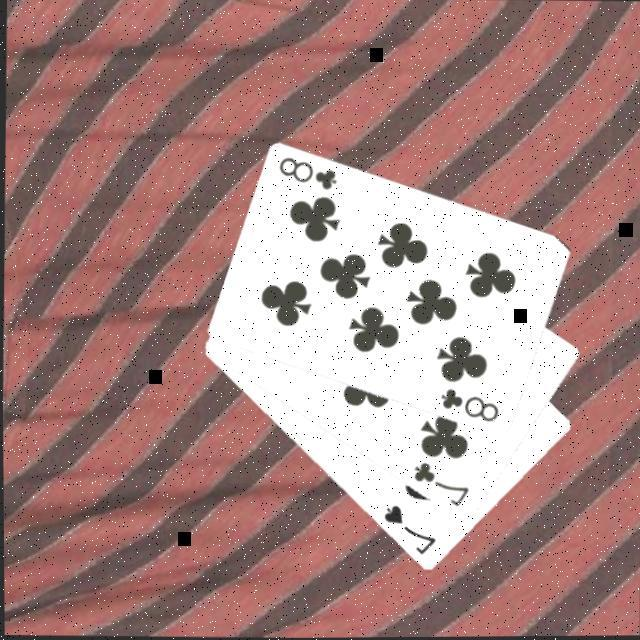7C: (410, 460, 472, 513)
7S: (380, 502, 439, 560)
8C: (437, 387, 503, 428), (276, 155, 342, 196)
